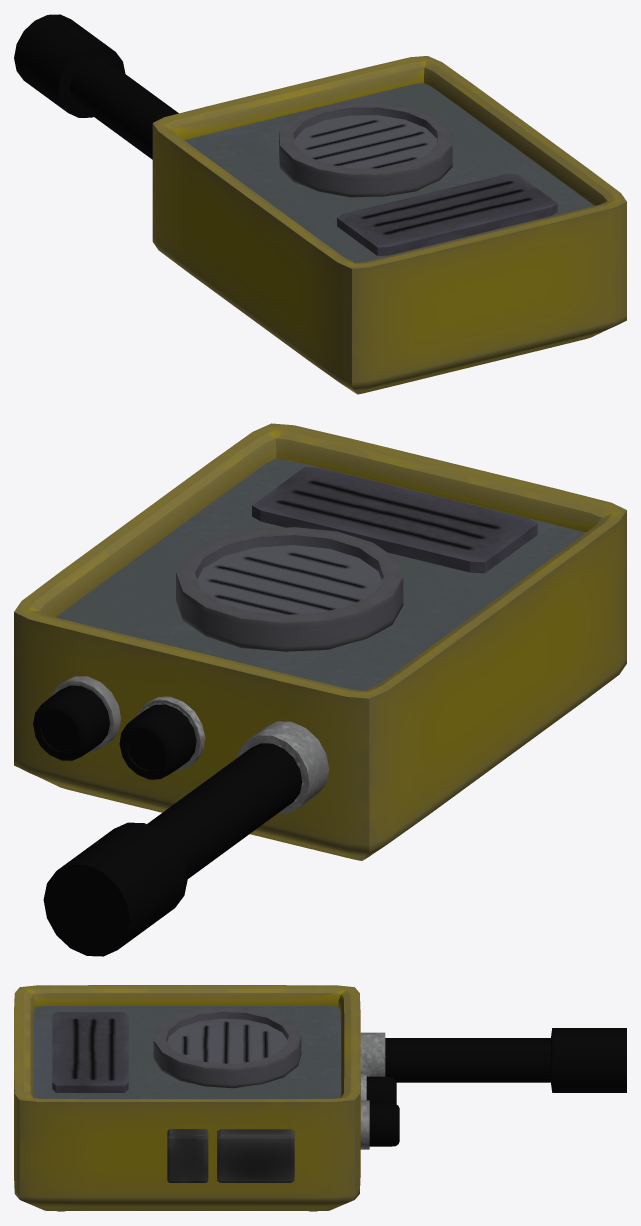
File: REORIENTED_WalkieTalkie.fbx
3 renders of one model, top to bottom at view 1: azimuth 30°, elevation 25°; view 2: azimuth 150°, elevation 25°; view 3: azimuth 270°, elevation 25°, orthographic. The views are drawn at different scales.
Visible parts, largest first — view 1: TEXTURED_WalkieTalkie; view 2: TEXTURED_WalkieTalkie; view 3: TEXTURED_WalkieTalkie.
Part boxes in pixels (bbox=[...]): TEXTURED_WalkieTalkie: bbox=[14, 14, 626, 394]; TEXTURED_WalkieTalkie: bbox=[14, 423, 626, 956]; TEXTURED_WalkieTalkie: bbox=[14, 985, 626, 1211].
Bounding box in the file's own units: 178 × 85.54 × 368.
Materials: 9 (9 with a texture image).
